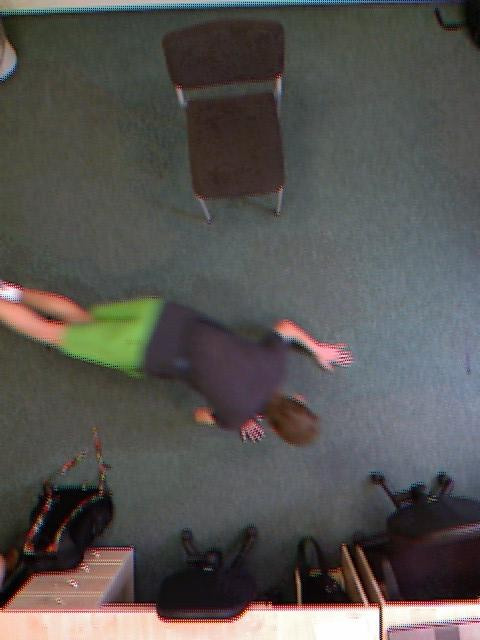fall: (110, 131, 242, 600)
